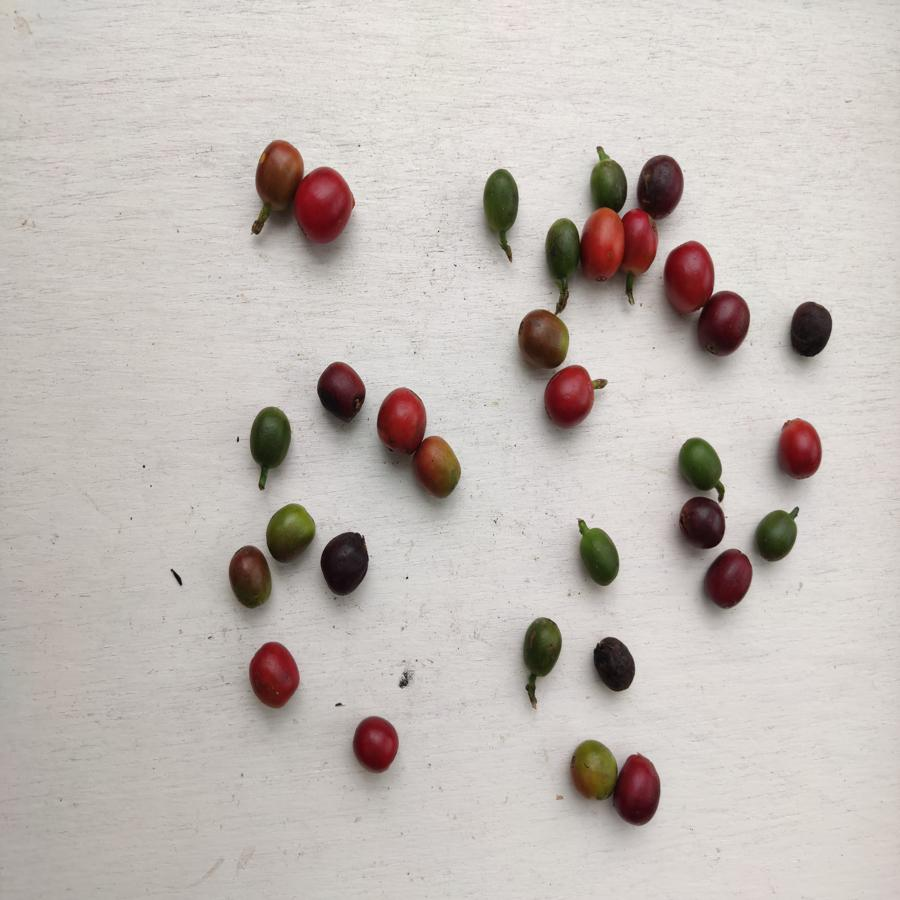Inmaduro: (574, 518, 623, 588), (519, 614, 565, 680), (248, 405, 293, 471), (677, 433, 727, 490), (753, 507, 799, 564), (480, 167, 519, 232), (544, 215, 580, 283), (586, 157, 630, 206)
Maduro: (298, 165, 356, 244), (543, 364, 600, 434), (376, 384, 429, 456), (247, 641, 304, 707), (770, 417, 825, 483), (664, 241, 711, 316), (350, 714, 401, 775), (580, 211, 619, 286), (622, 211, 657, 277)
Pinton: (516, 306, 572, 370), (224, 543, 275, 610), (263, 502, 319, 563), (412, 433, 464, 494), (253, 135, 294, 211), (569, 735, 615, 801)
Sobremaduro: (316, 529, 371, 599), (698, 291, 754, 359), (615, 750, 662, 830), (311, 358, 365, 426), (638, 151, 686, 218), (707, 548, 754, 613), (674, 496, 730, 550), (786, 300, 837, 356), (592, 632, 636, 695)
